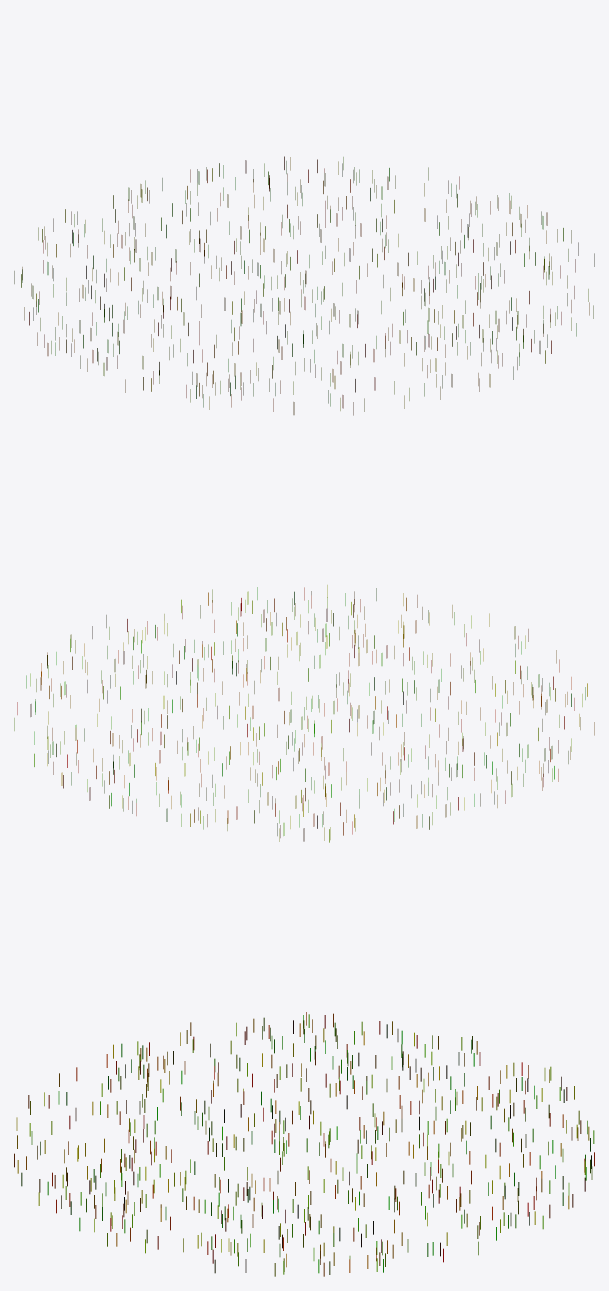
The model's file is SM_VFX_RainMesh_Low.FBX.
3 renders of one model, top to bottom at view 1: azimuth 30°, elevation 25°; view 2: azimuth 150°, elevation 25°; view 3: azimuth 270°, elevation 25°, orthographic. The views are drawn at different scales.
Visible parts, largest first — view 1: SM_VFX_RainMesh_Low; view 2: SM_VFX_RainMesh_Low; view 3: SM_VFX_RainMesh_Low.
Boxes of the visible parts, bbox=[...] form: SM_VFX_RainMesh_Low: bbox=[14, 156, 594, 415]; SM_VFX_RainMesh_Low: bbox=[14, 585, 594, 842]; SM_VFX_RainMesh_Low: bbox=[14, 1012, 594, 1276].
Size of what is drawn, in the model's own units: 1956 by 1915 by 1025.
